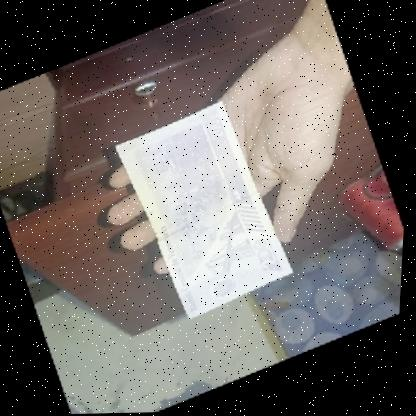two_hundred-back-vef: (105, 91, 309, 332)
